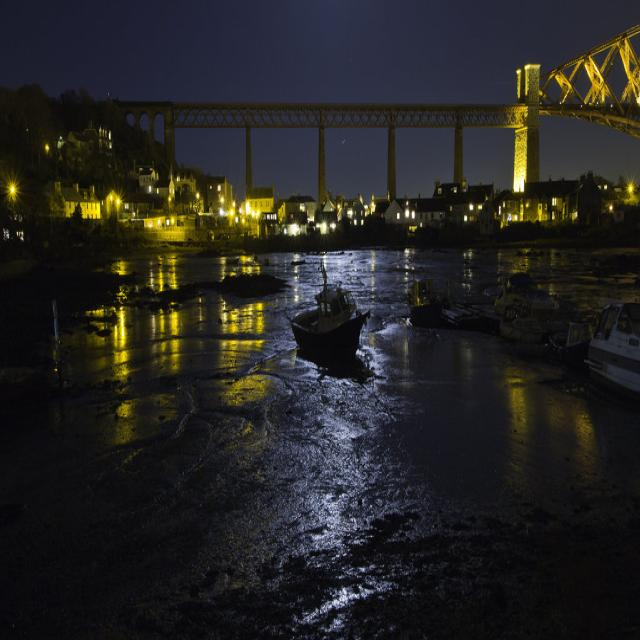Boat: (298, 277, 369, 390), (581, 280, 640, 404)
